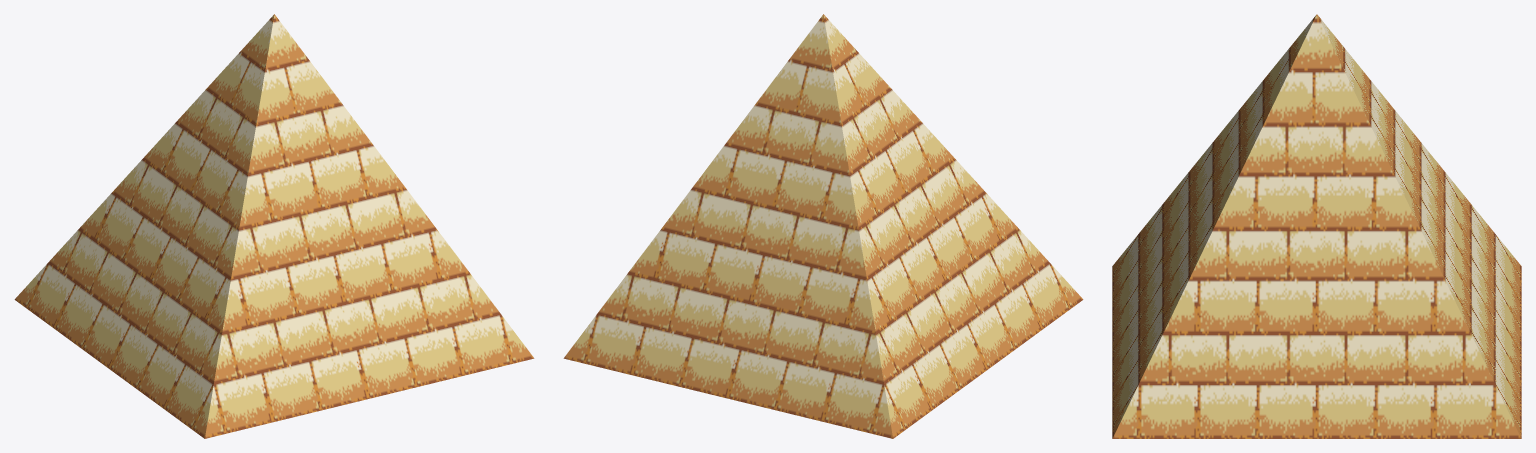
3 views of the same model, side by side, from view 1: azimuth 30°, elevation 25°; view 2: azimuth 150°, elevation 25°; view 3: azimuth 270°, elevation 25° (orthographic). The views are drawn at different scales.
Parts seen in each view (by area): view 1: Plane; view 2: Plane; view 3: Plane.
Boxes of the visible parts, box(x1,y1,x2,y2) form: Plane: box(14, 14, 534, 438); Plane: box(563, 14, 1083, 438); Plane: box(1112, 14, 1521, 438).
Size of the model in its own units: 2 by 1.83 by 2.
1 material, 1 textured.
